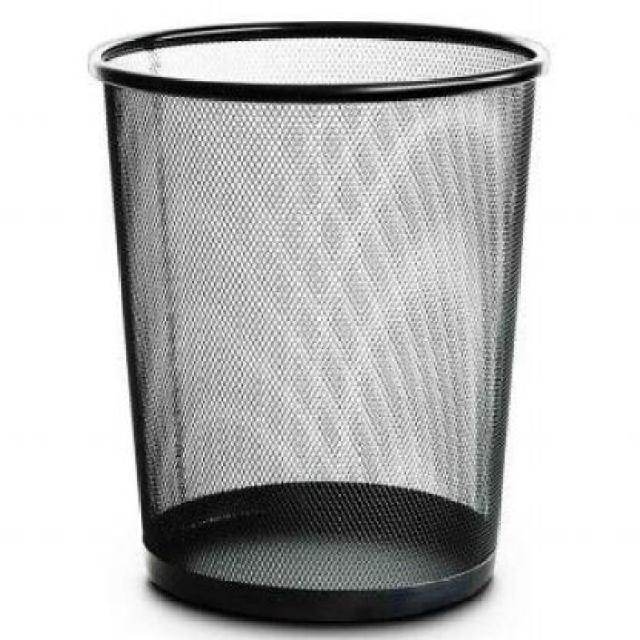dustbin: (82, 14, 556, 638)
